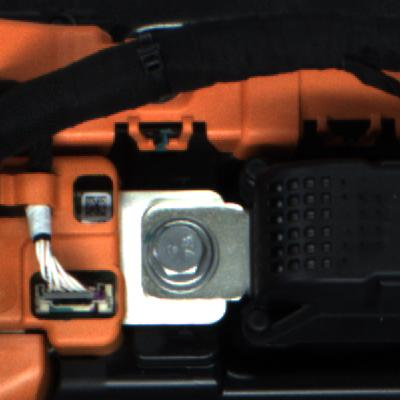nut_b: (140, 211, 224, 299)
